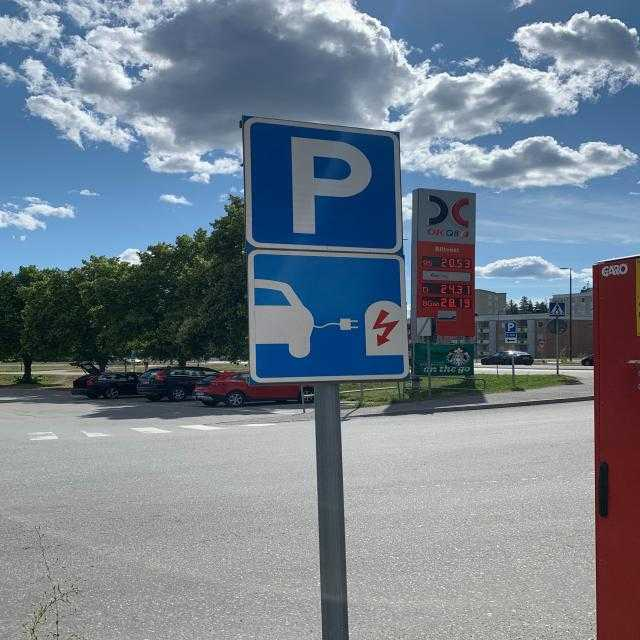psign: (242, 115, 404, 254), (505, 322, 517, 332)
